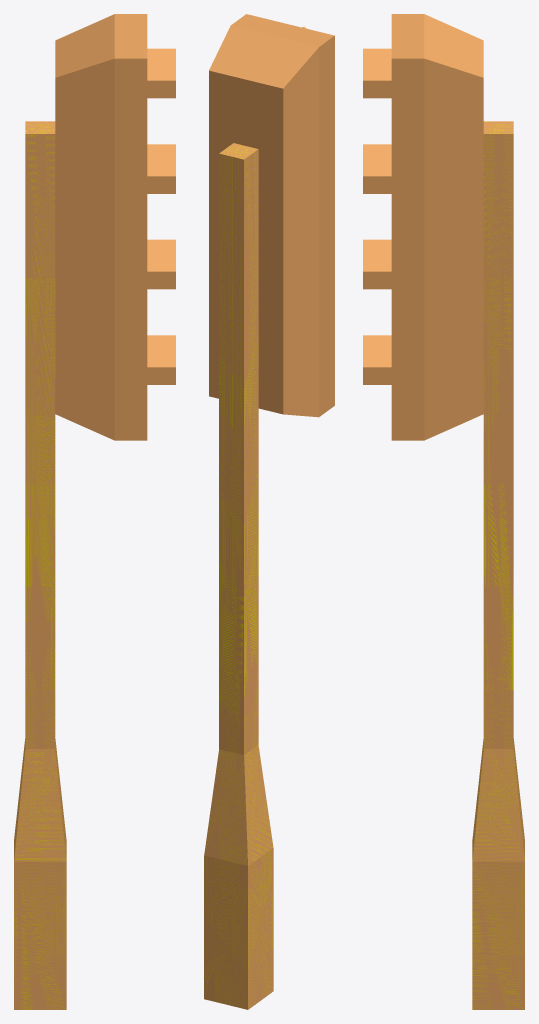
The model's file is lightRed.glb.
3 renders of one model, left to right at view 1: azimuth 90°, elevation 25°; view 2: azimuth 150°, elevation 25°; view 3: azimuth 270°, elevation 25°, orthographic. The views are drawn at different scales.
Parts seen in each view (by area): view 1: lightRed(Clone); view 2: lightRed(Clone); view 3: lightRed(Clone).
Boxes of the visible parts, x1=… form: lightRed(Clone): x1=14, y1=14, x2=175, y2=1009; lightRed(Clone): x1=204, y1=14, x2=334, y2=1009; lightRed(Clone): x1=363, y1=14, x2=524, y2=1009.
Bounding box in the file's own units: 0.0708 × 0.7134 × 0.1087.
